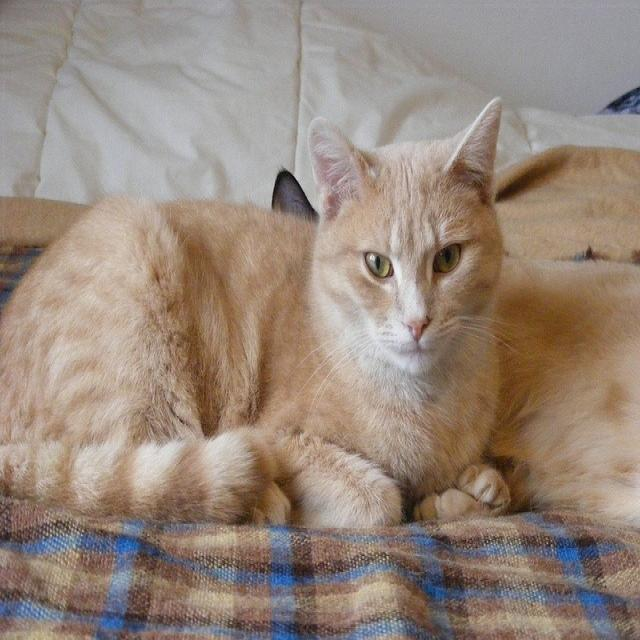cat: (8, 84, 516, 536)
